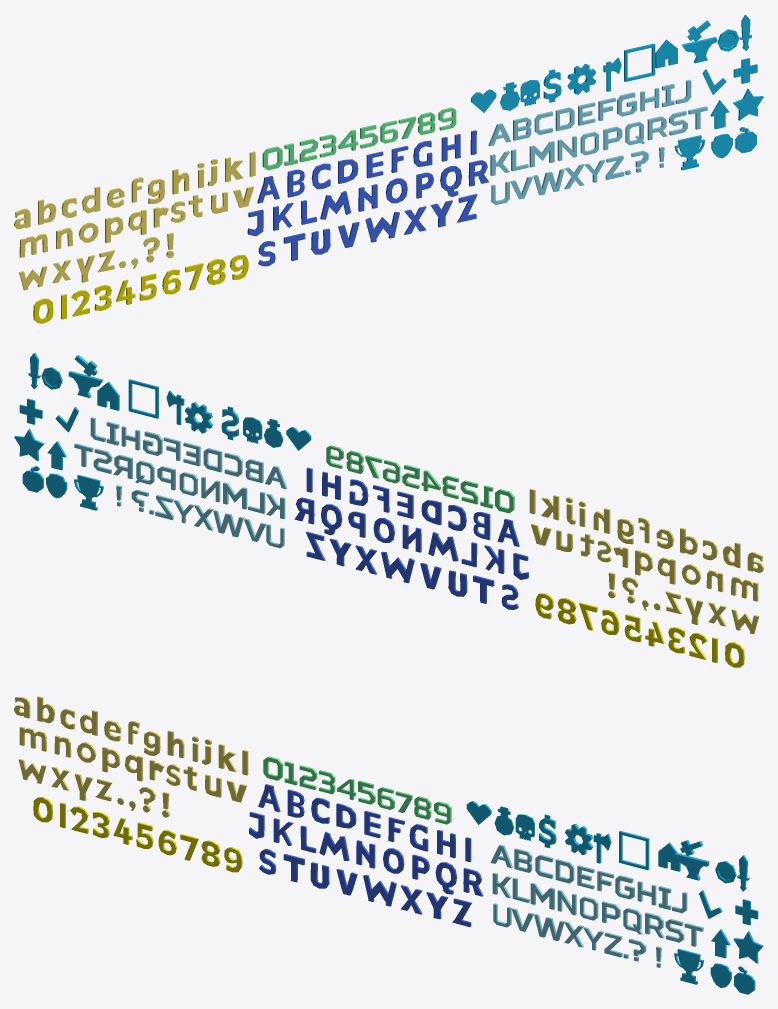
Rendered from ModularLowPolyLettersAndIons.fbx.
The picture shows the model from 3 angles, top to bottom: view 1: azimuth 30°, elevation 25°; view 2: azimuth 150°, elevation 25°; view 3: azimuth 330°, elevation 25°; orthographic projection.
Parts seen in each view (by area): view 1: icon.014, icon.013, icon.015, uppercase W; view 2: icon.014, icon.013, icon.015; view 3: icon.014, icon.013, icon.015, uppercase W.
Part boxes in pixels (x1,y1,x2,y2): icon.014: (681,20,716,63); icon.013: (674,135,705,170); icon.015: (567,64,595,94); uppercase W: (365,212,399,242); icon.014: (68,355,102,397); icon.013: (74,474,103,510); icon.015: (185,402,212,433); icon.014: (674,840,709,880); icon.013: (674,948,703,984); icon.015: (565,824,592,854); uppercase W: (363,875,396,906).
Size of the model in its own units: 1301 by 243 by 23.9.
